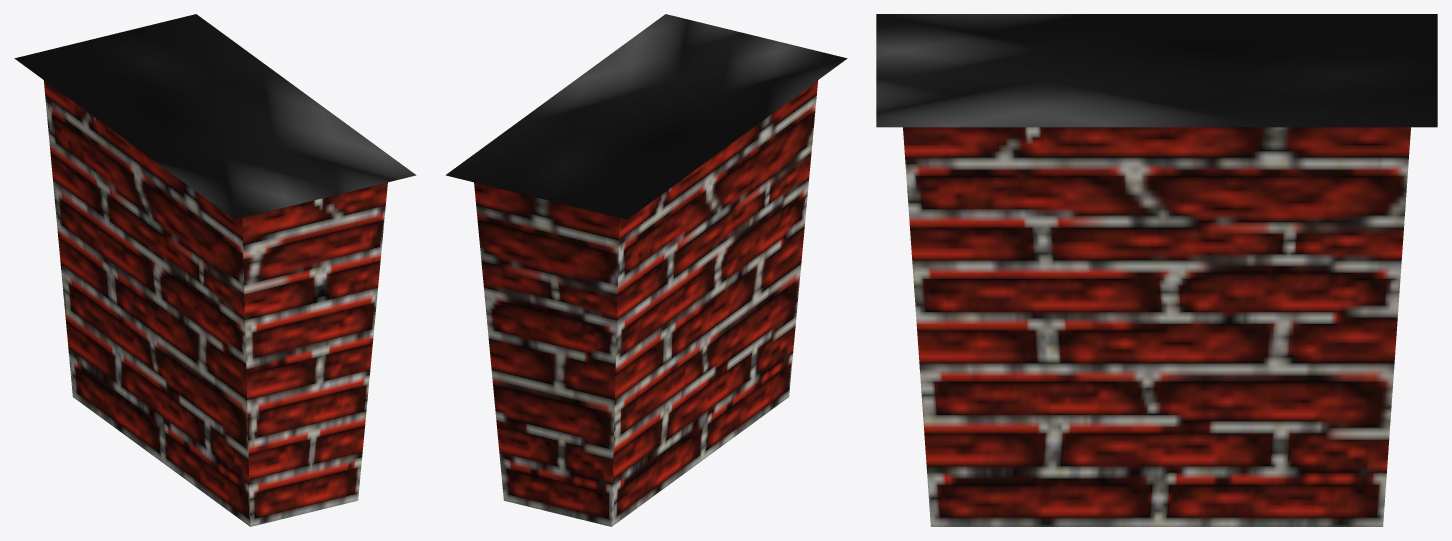
File: Kamin_ZiegelKlein_558.glb
3 views of the same model, side by side, from view 1: azimuth 30°, elevation 25°; view 2: azimuth 150°, elevation 25°; view 3: azimuth 270°, elevation 25° (orthographic). The views are drawn at different scales.
Parts seen in each view (by area): view 1: pCylinderShape359, pCylinderShape356, pCylinderShape358; view 2: pCylinderShape359, pCylinderShape360, pCylinderShape358; view 3: pCylinderShape357, pCylinderShape358.
Boxes of the visible parts, x1=… form: pCylinderShape359: x1=43, y1=80, x2=250, y2=526; pCylinderShape356: x1=242, y1=182, x2=387, y2=526; pCylinderShape358: x1=14, y1=14, x2=416, y2=219; pCylinderShape359: x1=611, y1=80, x2=818, y2=526; pCylinderShape360: x1=474, y1=182, x2=619, y2=526; pCylinderShape358: x1=446, y1=14, x2=847, y2=219; pCylinderShape357: x1=903, y1=127, x2=1410, y2=526; pCylinderShape358: x1=876, y1=14, x2=1437, y2=127.
Bounding box in the file's own units: 0.0833 × 0.1451 × 0.1746.
Materials: 5 (5 with a texture image).
